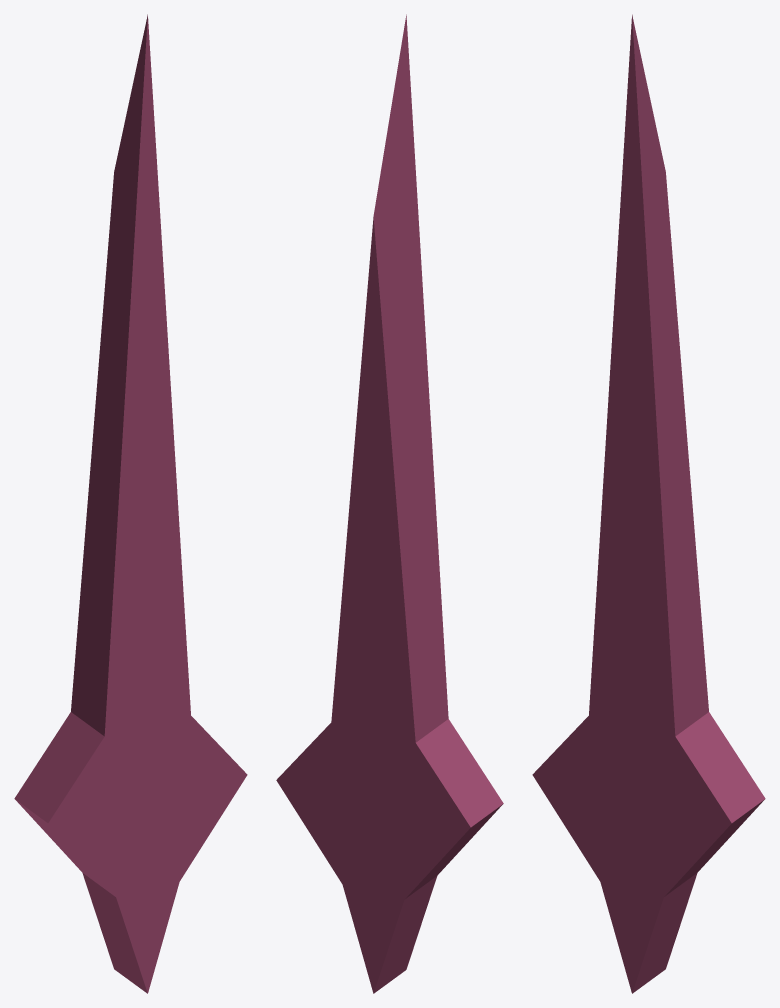
The model's file is wskazowka.fbx.
The picture shows the model from 3 angles, left to right: view 1: azimuth 30°, elevation 25°; view 2: azimuth 150°, elevation 25°; view 3: azimuth 330°, elevation 25°; orthographic projection. The views are drawn at different scales.
Visible parts, largest first — view 1: wskazowka; view 2: wskazowka; view 3: wskazowka.
Boxes of the visible parts, x1=… form: wskazowka: x1=14, y1=14, x2=247, y2=993; wskazowka: x1=276, y1=14, x2=503, y2=993; wskazowka: x1=532, y1=14, x2=765, y2=993.
Bounding box in the file's own units: 35.34 × 166 × 10.36.
